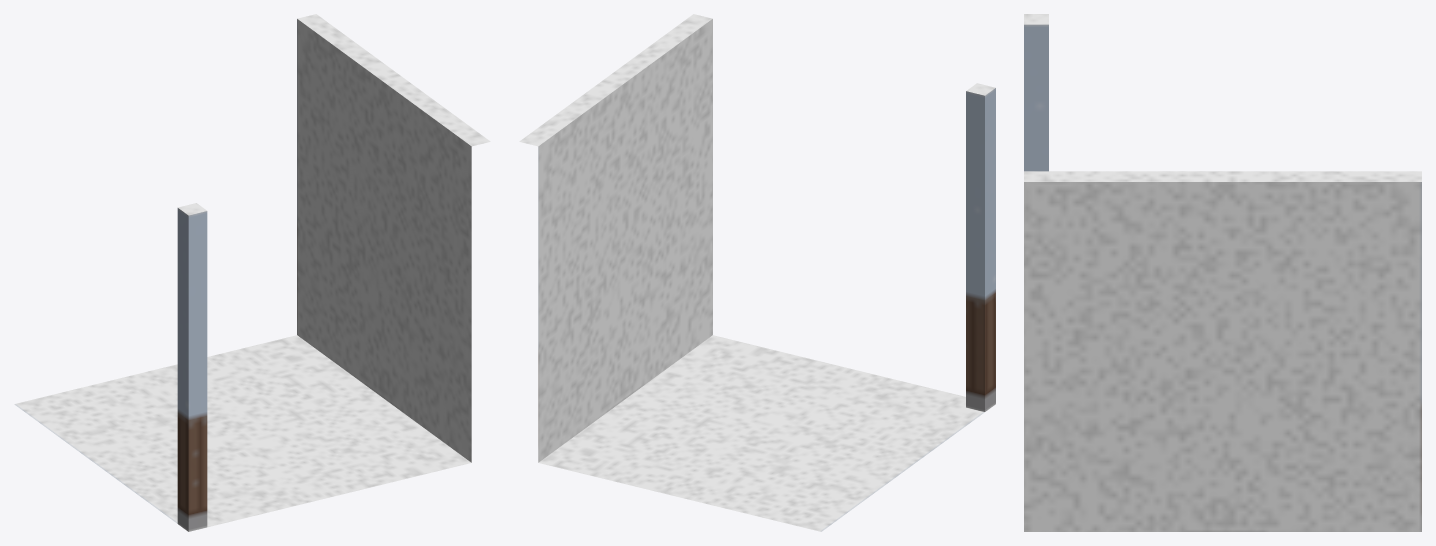
The model's file is wallStraightPillarR.fbx.
The picture shows the model from 3 angles, left to right: view 1: azimuth 30°, elevation 25°; view 2: azimuth 150°, elevation 25°; view 3: azimuth 270°, elevation 25°; orthographic projection. The views are drawn at different scales.
Parts seen in each view (by area): view 1: SimpleWallPillarR; view 2: SimpleWallPillarR; view 3: SimpleWallPillarR.
Part boxes in pixels (<box>): SimpleWallPillarR: <box>14,14,490,531</box>; SimpleWallPillarR: <box>519,14,995,531</box>; SimpleWallPillarR: <box>1024,14,1421,531</box>.
Size of the model in its own units: 4 by 4 by 4.
